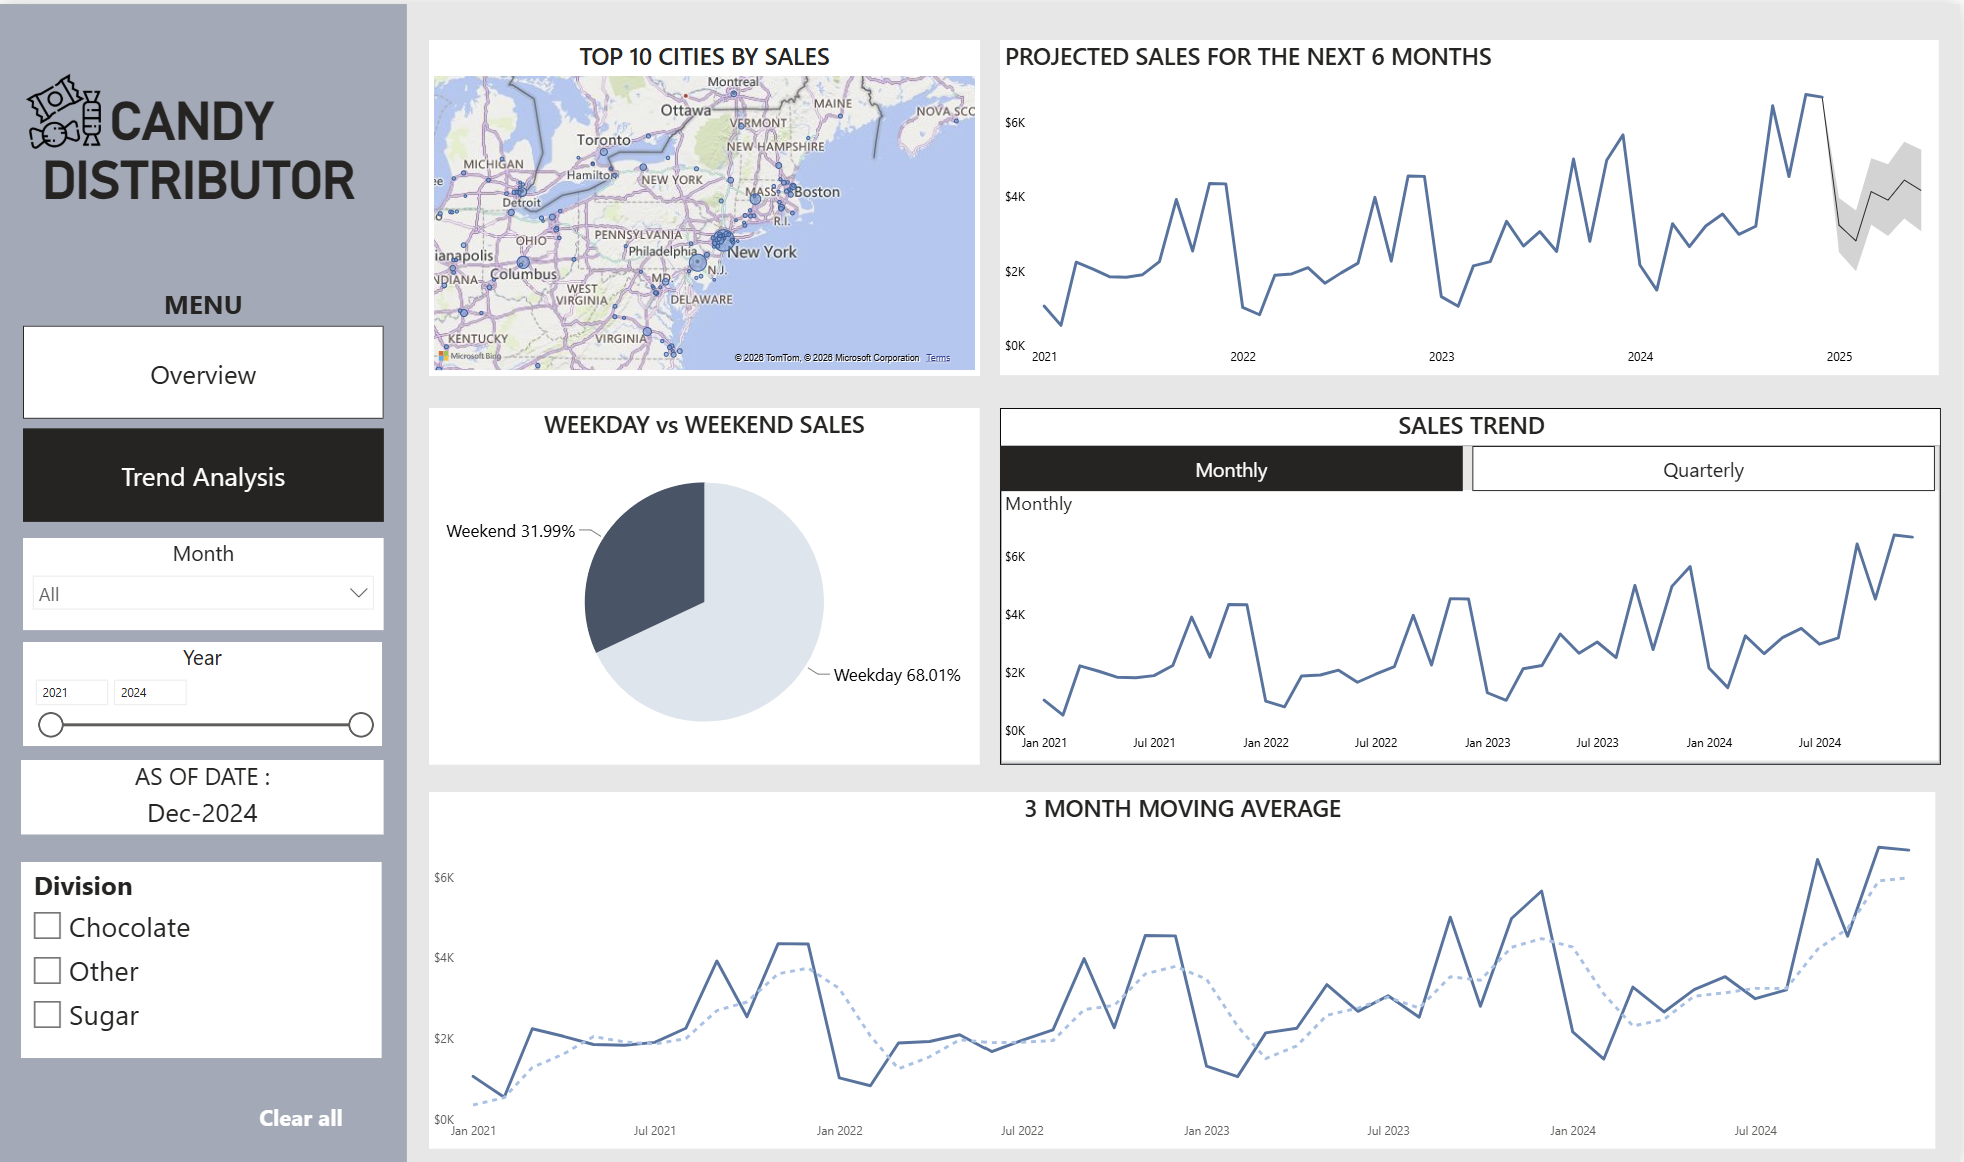

What the dashboard file says about the page in this screenshot:
{"tool":"powerbi","page":{"name":"Trend Analysis","canvas":[2000,1185],"ordinal":1},"visuals":[{"type":"pieChart","title":"WEEKDAY vs WEEKEND SALES ","fields":{"Category":["Calendar.Weekend/Weekday"],"Y":["Candy_Sales.Total Sales"]},"box":[438,412,562,364],"z":0},{"type":"lineChart","title":"PROJECTED SALES FOR THE NEXT 6 MONTHS ","fields":{"Y":["Candy_Sales.Total Sales"],"Category":["Calendar.Start of the month.Variation.Date Hierarchy.Year","Calendar.Start of the month.Variation.Date Hierarchy.Quarter","Calendar.Start of the month.Variation.Date Hierarchy.Month","Calendar.Start of the month.Variation.Date Hierarchy.Day"]},"box":[1020,36,958,342],"z":1000},{"type":"lineChart","title":"Quarterly ","fields":{"Y":["Candy_Sales.Total Sales"],"Category":["Calendar.Start of qtr"]},"box":[1020,496,954,276],"z":3000},{"type":"shape","title":"SALES TREND","box":[1020,412,960,364],"z":4000},{"type":"bookmarkNavigator","box":[1020,450,954,46],"z":5000},{"type":"shape","box":[0,0,416,1186],"z":6000},{"type":"pageNavigator","title":"MENU","box":[24,288,368,242],"z":7000},{"type":"slicer","fields":{"Values":["Candy_Targets.Division"]},"box":[22,876,368,200],"z":8000},{"type":"actionButton","box":[207.7,1103.8,200,63.5],"z":9000},{"type":"card","title":"AS OF DATE :","fields":{"Values":["Calendar.As of Date"]},"box":[22,772,370,76],"z":10000},{"type":"slicer","title":"Year","fields":{"Values":["Calendar.Date.Variation.Date Hierarchy.Year"]},"box":[24,652,366,106],"z":11000},{"type":"slicer","title":"Month","fields":{"Values":["Calendar.Date.Variation.Date Hierarchy.Month"]},"box":[24,544,368,94],"z":12000},{"type":"textbox","box":[21.2,84.6,367.3,148.1],"z":13000},{"type":"image","box":[23.1,63.5,86.5,92.3],"z":14000},{"type":"azureMap","title":"TOP 10 CITIES BY SALES","fields":{"Category":["Candy_Sales.City"],"Size":["Candy_Sales.Total Sales"]},"box":[438,36,562,342],"z":15000},{"type":"lineChart","title":"3 MONTH MOVING AVERAGE ","fields":{"Category":["Calendar.Start of the month"],"Y":["Candy_Sales.Total Sales","Candy_Sales.3 month moving avg"]},"box":[438,804,1536,364],"z":16000}]}

Visuals, with their boxes in screenshot pixels (x1, y1, x2, y2), scaled from the page's 2000x1185 canvas onto the 1964x1162 screenshot:
"WEEKDAY vs WEEKEND SALES " pieChart: bbox(430, 404, 982, 761)
"PROJECTED SALES FOR THE NEXT 6 MONTHS " lineChart: bbox(1002, 35, 1942, 371)
"Quarterly " lineChart: bbox(1002, 486, 1938, 757)
"SALES TREND" shape: bbox(1002, 404, 1944, 761)
bookmarkNavigator: bbox(1002, 441, 1938, 486)
shape: bbox(0, 0, 409, 1161)
"MENU" pageNavigator: bbox(24, 282, 385, 520)
slicer - Candy_Targets.Division: bbox(22, 859, 383, 1055)
actionButton: bbox(204, 1082, 400, 1145)
"AS OF DATE :" card: bbox(22, 757, 385, 832)
"Year" slicer: bbox(24, 639, 383, 743)
"Month" slicer: bbox(24, 533, 385, 626)
textbox: bbox(21, 83, 382, 228)
image: bbox(23, 62, 108, 153)
"TOP 10 CITIES BY SALES" azureMap: bbox(430, 35, 982, 371)
"3 MONTH MOVING AVERAGE " lineChart: bbox(430, 788, 1938, 1145)
